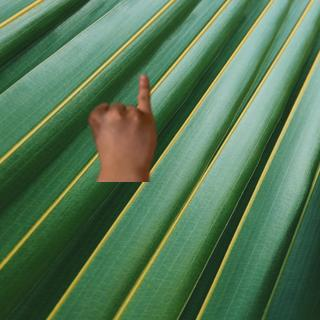FINE: (85, 71, 160, 170)
